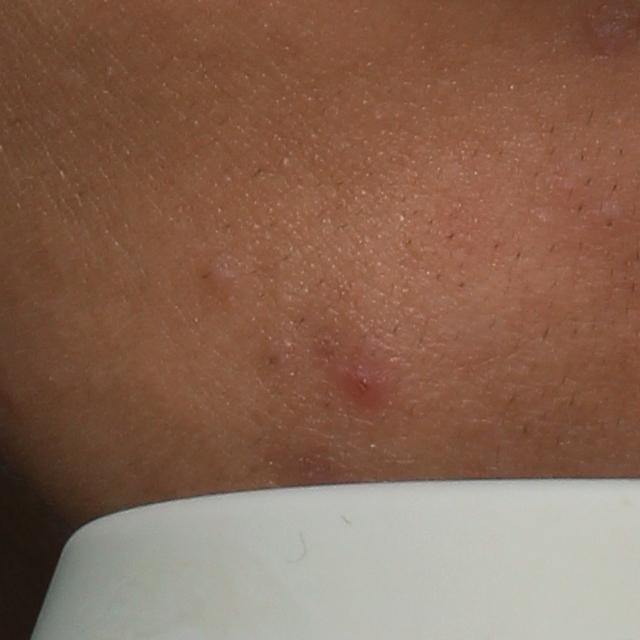comedo: (203, 262, 237, 291), (260, 345, 286, 374)
papule: (338, 358, 384, 403)
